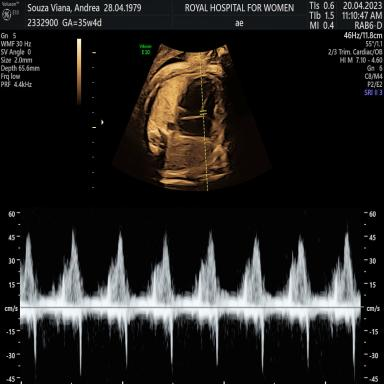Ultrasound-Waves: (24, 208, 359, 384)
